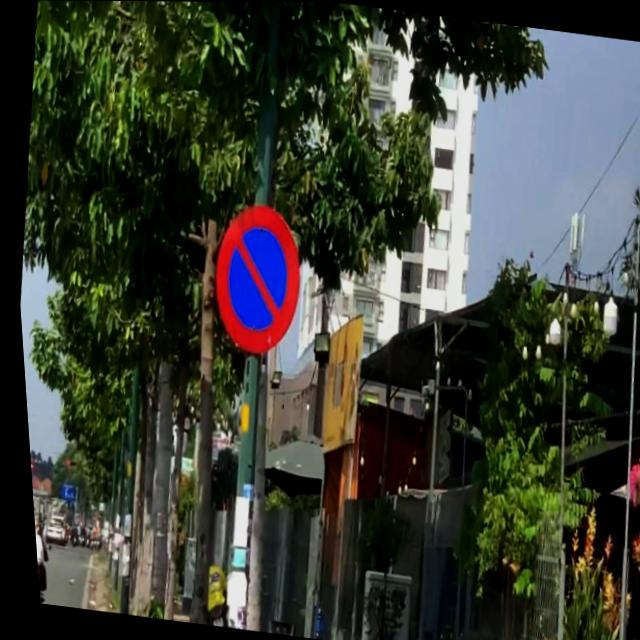Cam di nguoc chieu: (24, 461, 28, 475)
Cam do xe: (197, 197, 309, 360)
